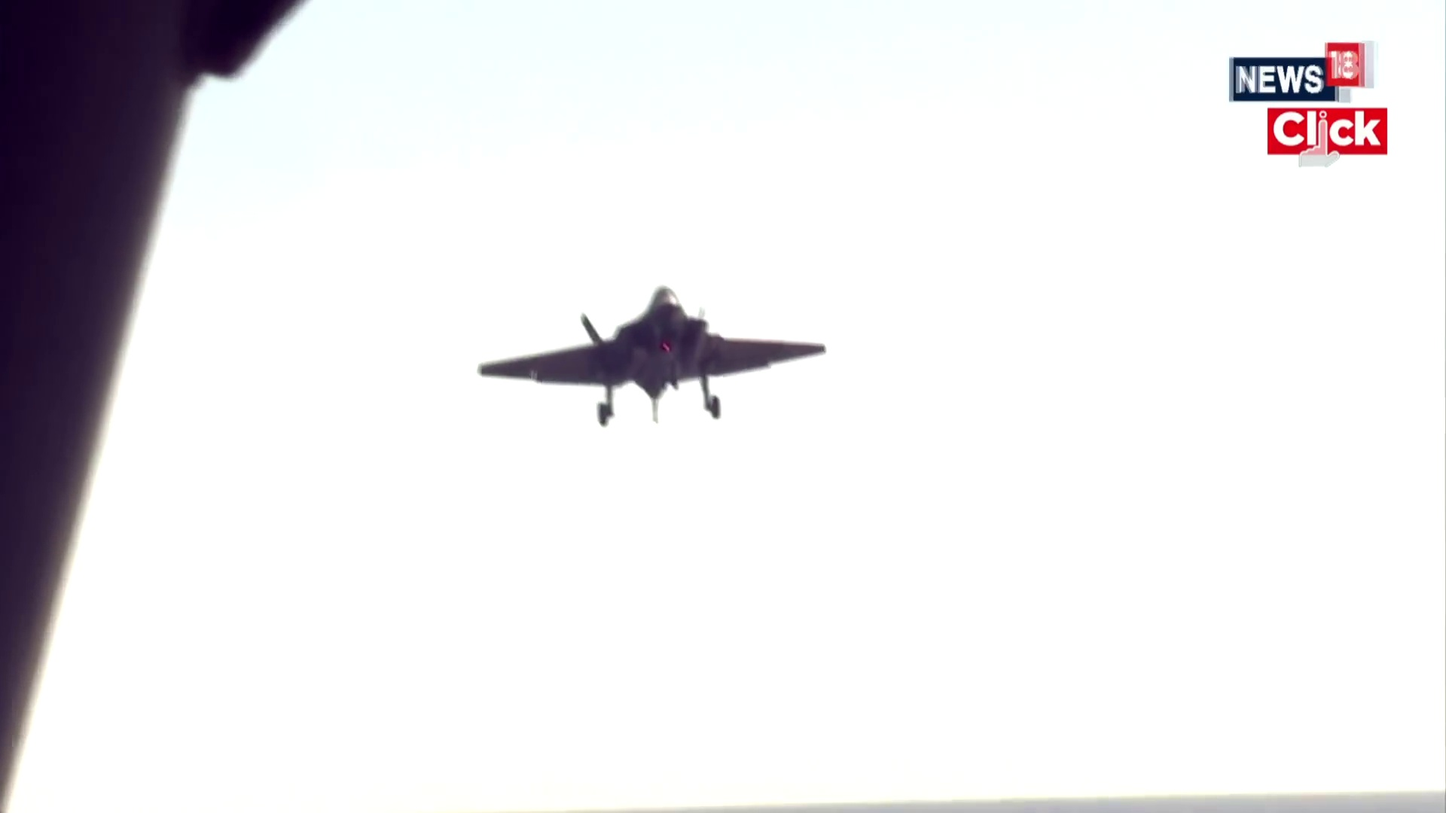F35: (476, 285, 827, 429)
